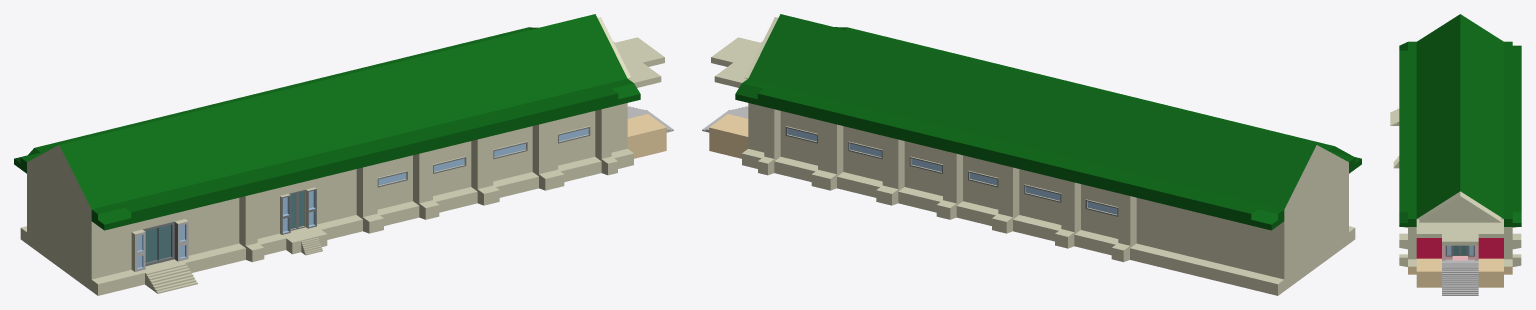
File: xprtLibrary(audi).fbx
3 views of the same model, side by side, from view 1: azimuth 30°, elevation 25°; view 2: azimuth 150°, elevation 25°; view 3: azimuth 270°, elevation 25° (orthographic). The views are drawn at different scales.
Parts seen in each view (by area): view 1: Cube; view 2: Cube; view 3: Cube.
Part boxes in pixels (bbox=[...]): Cube: bbox=[14, 14, 673, 295]; Cube: bbox=[702, 14, 1361, 295]; Cube: bbox=[1390, 14, 1521, 295].
Bounding box in the file's own units: 5380 × 1051 × 1500.
